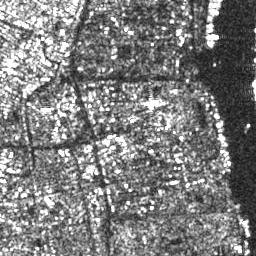ship: (241, 219, 252, 238), (217, 133, 229, 148), (204, 33, 221, 41), (208, 8, 220, 16), (208, 1, 220, 9), (204, 28, 215, 33), (206, 22, 215, 28)
